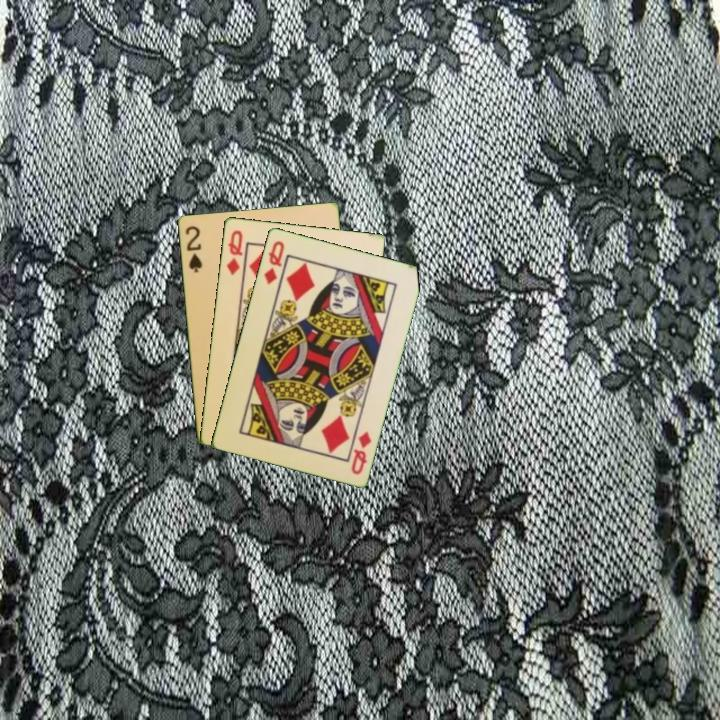2s: (182, 222, 205, 275)
Qd: (260, 237, 287, 287), (347, 427, 374, 477), (223, 226, 245, 278)
